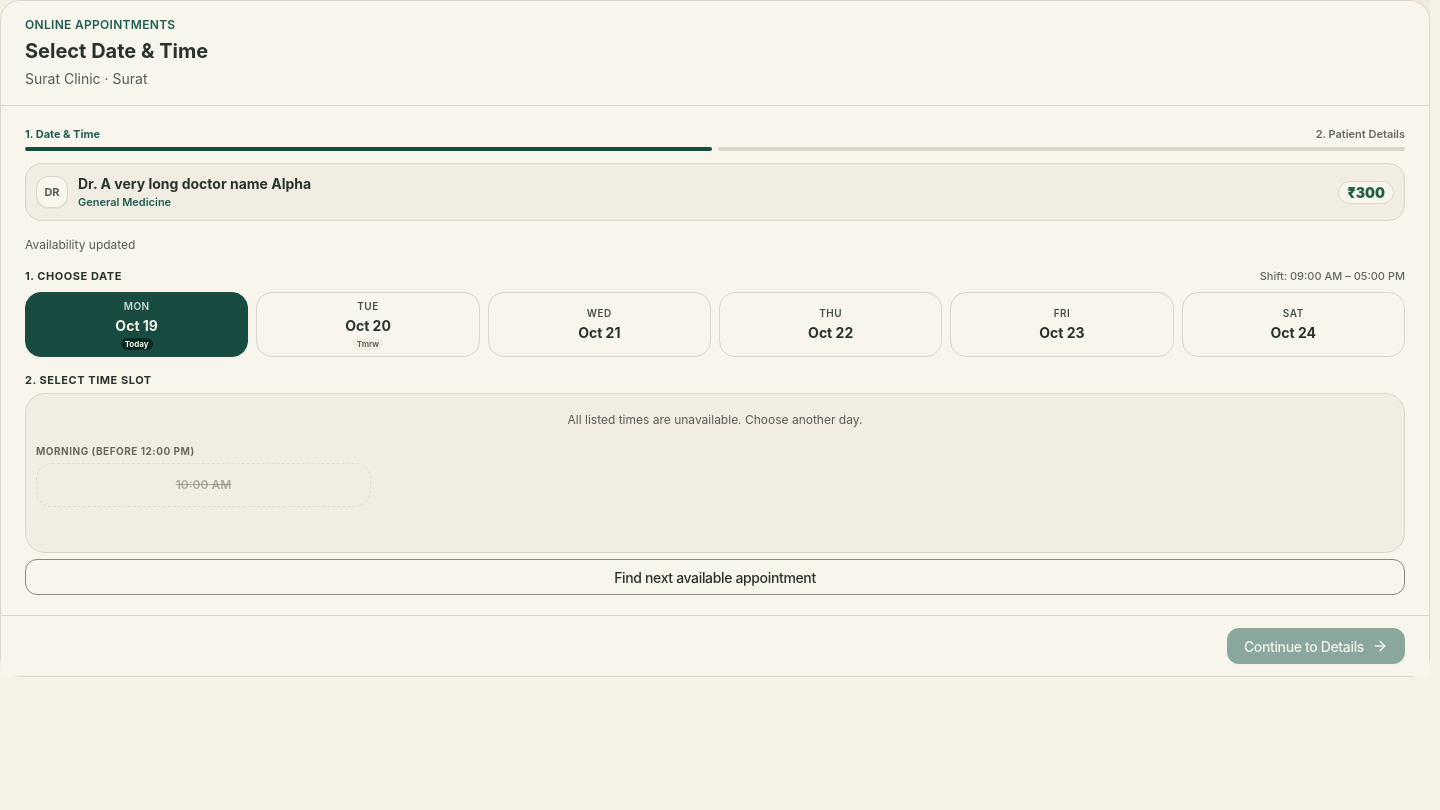
it: clinic detail and doctor booking links › checks later dates only when asked and selects an authoritative available slot
This screenshot has width=1440, height=810.
Expected: the button "10:00 AM" is disabled, left=36, top=463, right=371, bottom=507
What coordinates should you click on to do the following:
click the button "Find next available appointment"
I would click on:
 (715, 577)
Its box is left=25, top=559, right=1405, bottom=595.
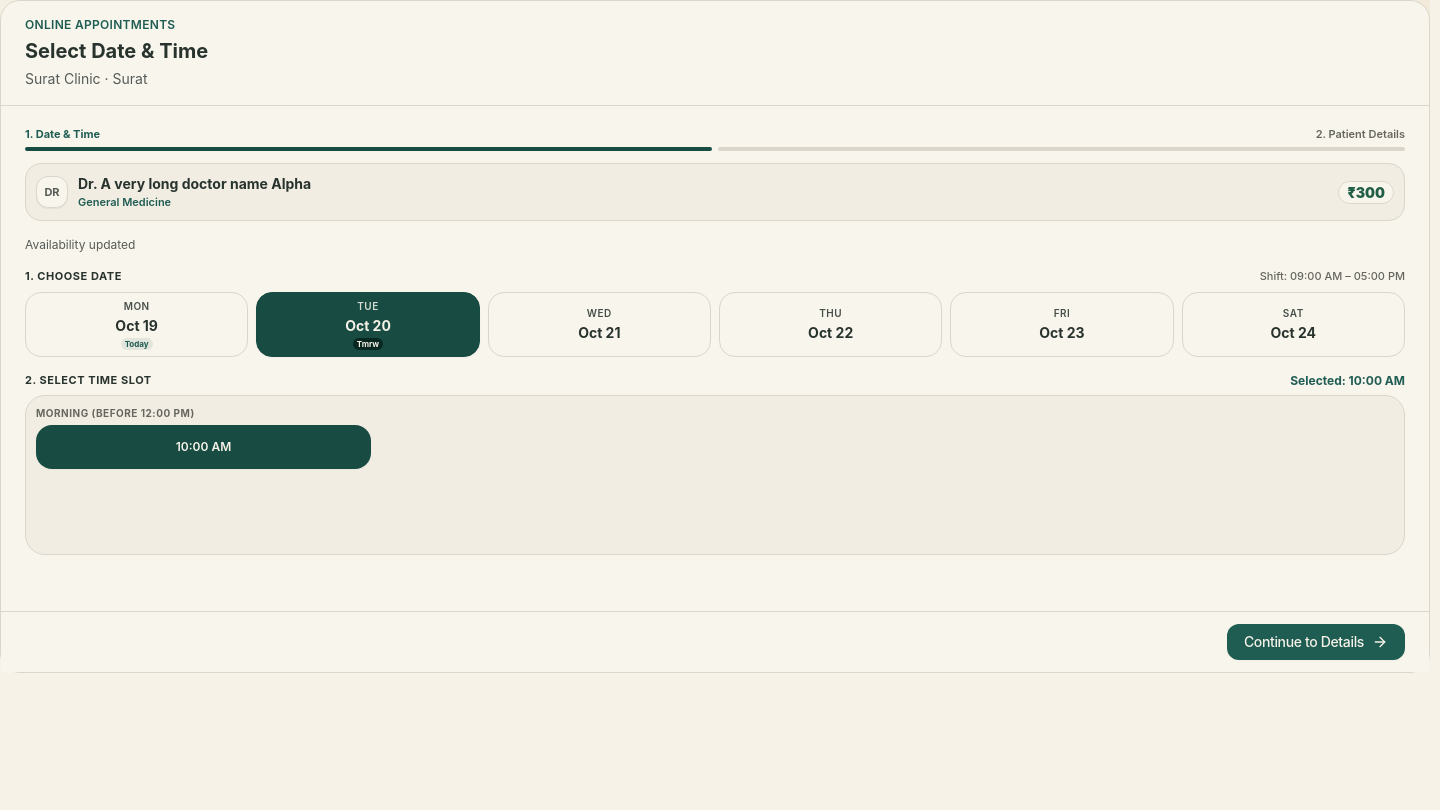
Expected: the button "10:00 AM" is enabled, left=36, top=425, right=371, bottom=469
Expected: the text "Selected: 10:00 AM" is shown, left=1290, top=373, right=1405, bottom=389
Expected: the button "Continue to Details" is enabled, left=1227, top=624, right=1405, bottom=660
